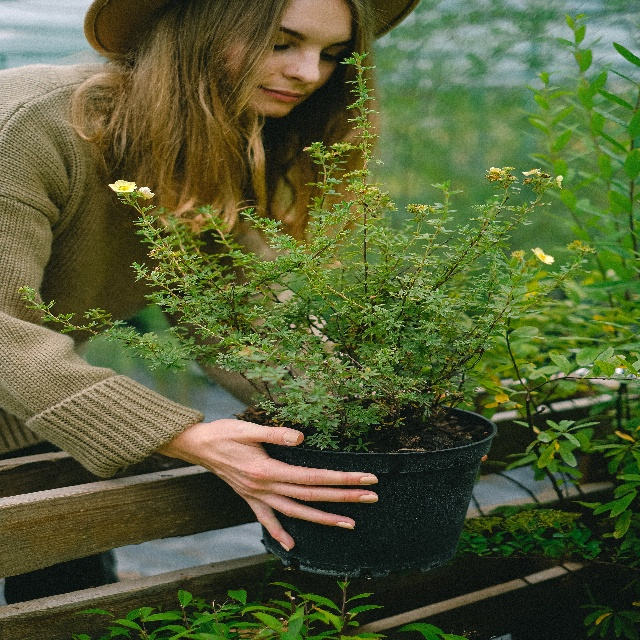Sin_guantes: (206, 413, 379, 553)
